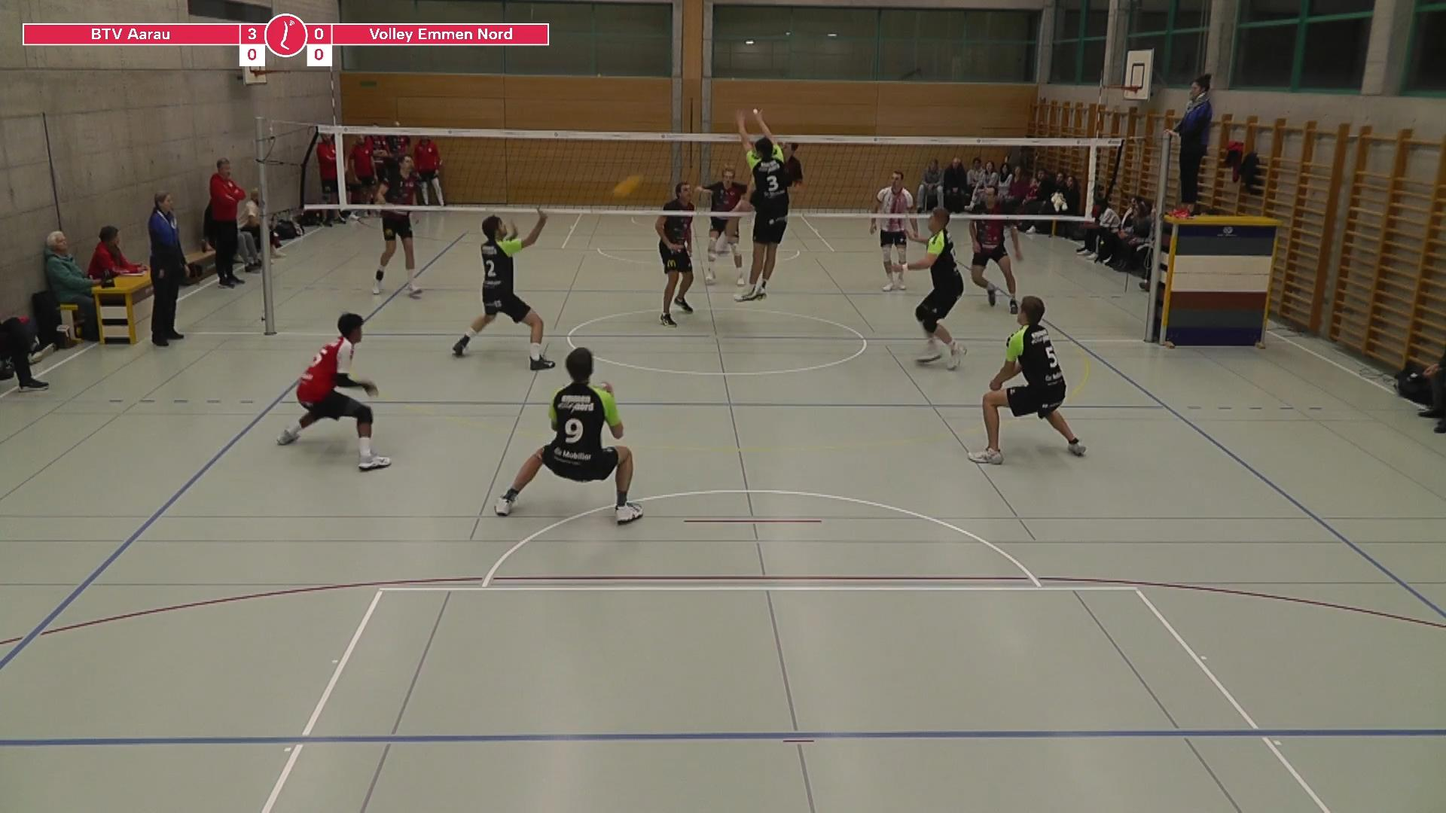Attack: (774, 129, 809, 204)
Block: (722, 104, 810, 307)
Dig: (447, 203, 568, 366)
Player: (495, 348, 642, 524), (969, 296, 1084, 464), (277, 312, 390, 470), (893, 207, 965, 370), (971, 187, 1021, 313), (870, 170, 913, 291), (372, 209, 421, 297), (655, 214, 693, 327), (705, 217, 746, 286)
ball: (608, 167, 648, 205)
